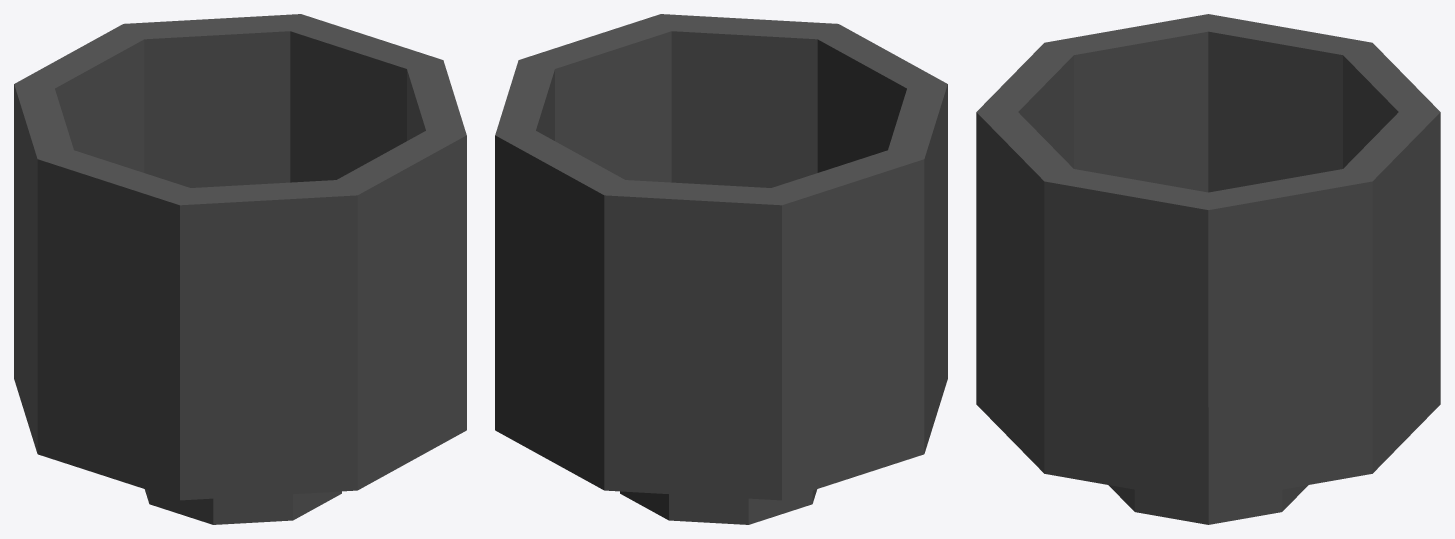
Rendered from SMG1_02_4.fbx.
The picture shows the model from 3 angles, left to right: view 1: azimuth 30°, elevation 25°; view 2: azimuth 150°, elevation 25°; view 3: azimuth 270°, elevation 25°; orthographic projection.
Visible parts, largest first — view 1: SMG1_02_4; view 2: SMG1_02_4; view 3: SMG1_02_4.
Boxes of the visible parts, <box> form: SMG1_02_4: <box>14,14,466,524</box>; SMG1_02_4: <box>495,14,947,524</box>; SMG1_02_4: <box>976,14,1440,524</box>.
Size of the model in its own units: 0.0125 by 0.0109 by 0.0125.
